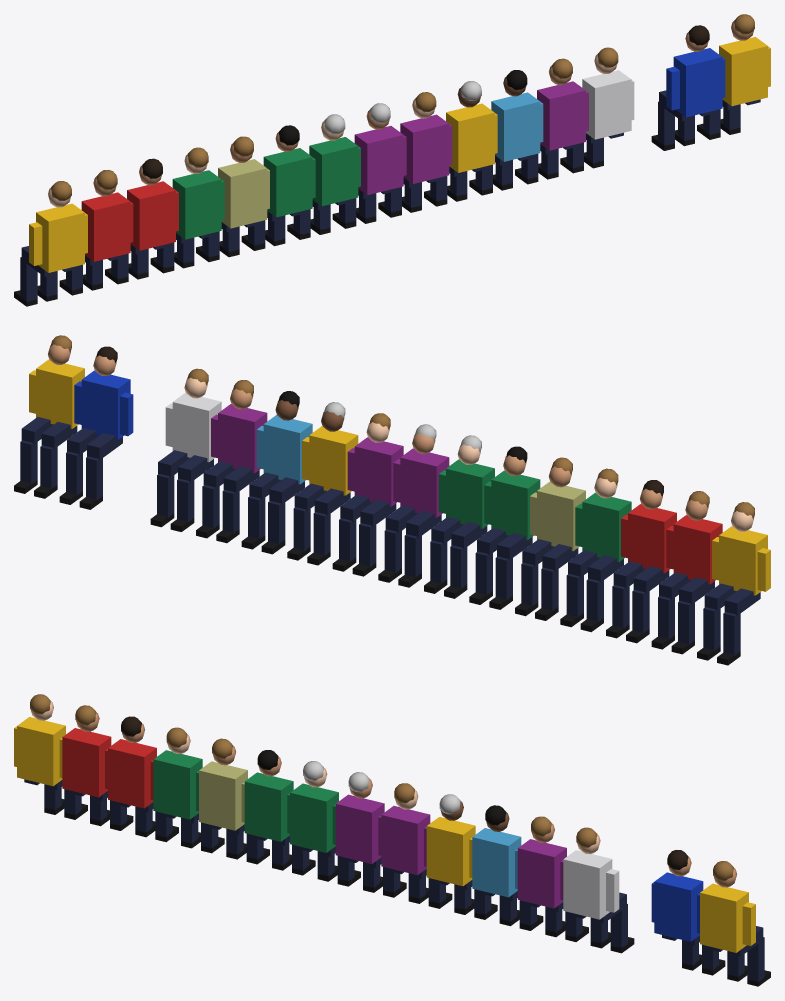
Rendered from Fila1.obj.
The picture shows the model from 3 angles, top to bottom: view 1: azimuth 30°, elevation 25°; view 2: azimuth 150°, elevation 25°; view 3: azimuth 330°, elevation 25°; orthographic projection.
Parts seen in each view (by area): view 1: Fila1; view 2: Fila1; view 3: Fila1.
Boxes of the visible parts, x1=… form: Fila1: x1=14, y1=14, x2=770, y2=306; Fila1: x1=14, y1=335, x2=770, y2=665; Fila1: x1=14, y1=694, x2=770, y2=986.
Size of the model in its own units: 8.09 by 1.42 by 0.7127.
1 material, 1 textured.
